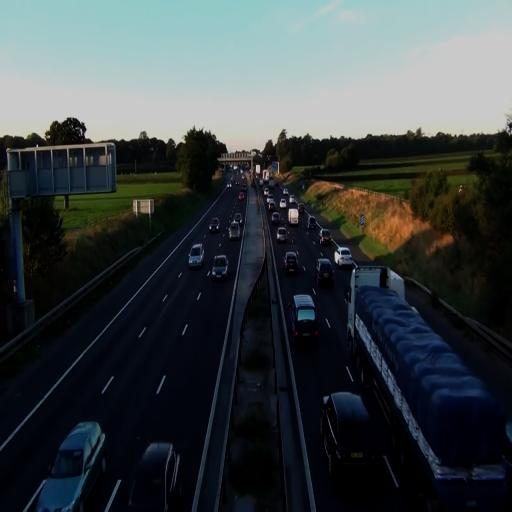vehicle: (346, 269, 512, 508), (23, 420, 107, 512), (320, 390, 376, 480), (126, 442, 182, 512), (291, 294, 318, 348), (316, 258, 334, 288), (210, 254, 229, 281), (333, 246, 354, 268), (188, 244, 204, 268), (284, 251, 298, 275), (228, 216, 242, 240), (277, 226, 288, 244), (210, 217, 220, 234)
